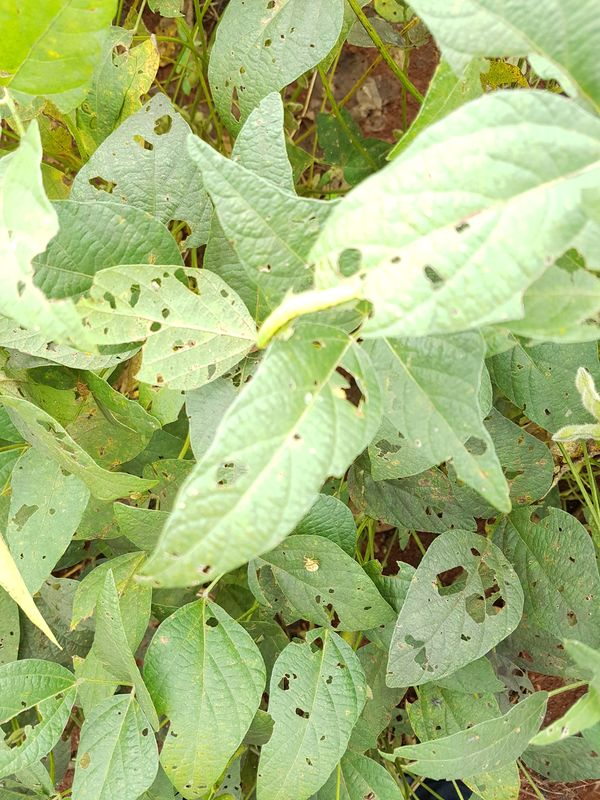Anticarsia_gemmatalis: (241, 273, 373, 358)
Euschistus_heros_ninfa: (296, 550, 324, 577)
